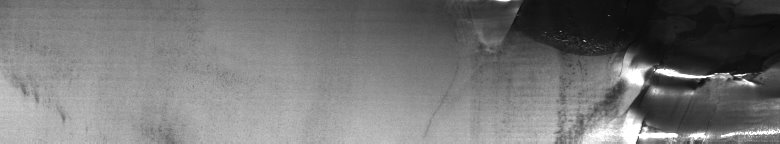ke: (462, 4, 776, 136)
